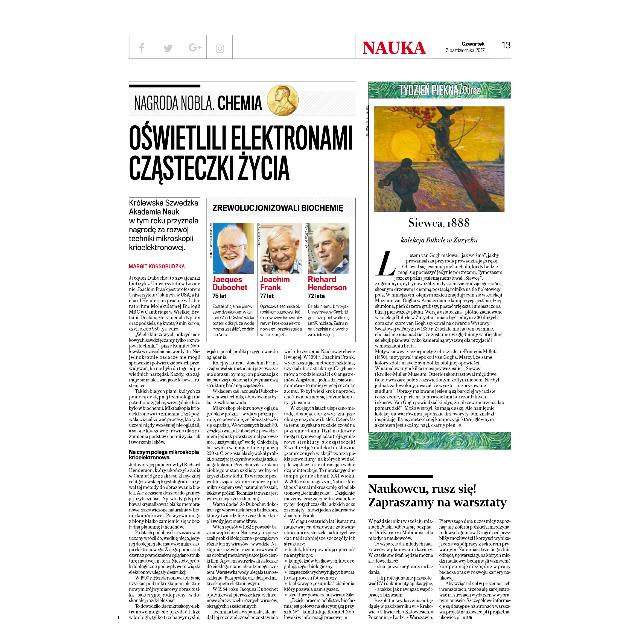article: (128, 84, 356, 620), (372, 103, 508, 430), (367, 474, 513, 622)
